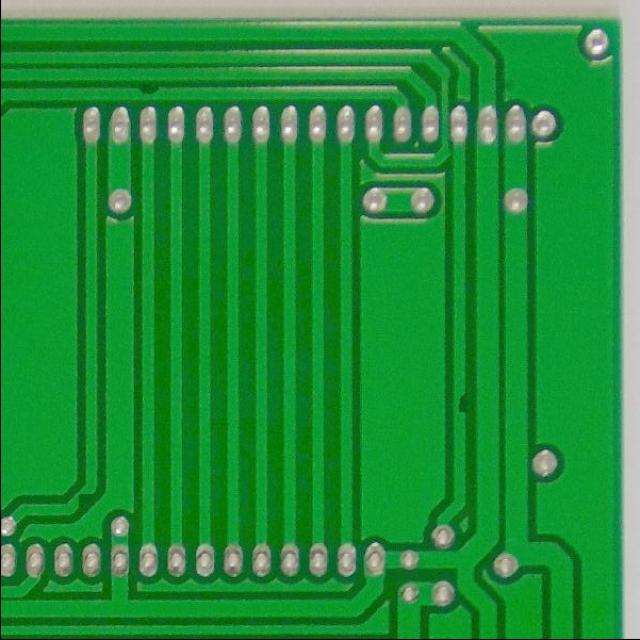mouse_bite: (66, 484, 97, 516), (448, 386, 474, 419), (128, 83, 165, 102)
